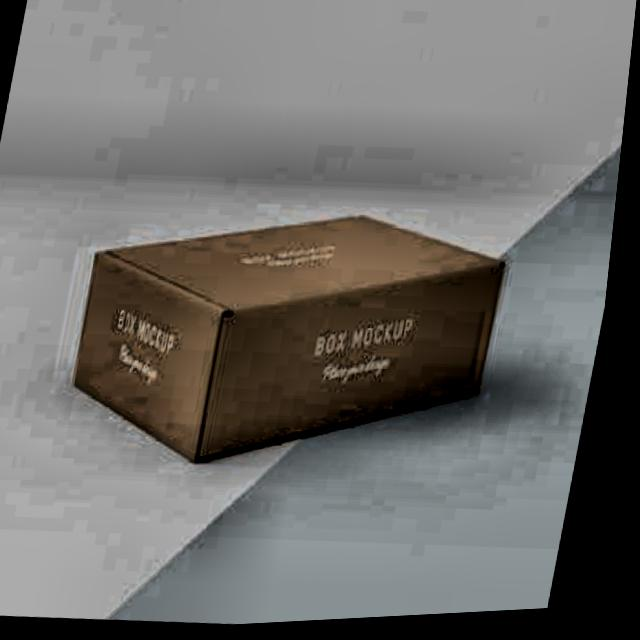Cardbox: (39, 154, 549, 523)
